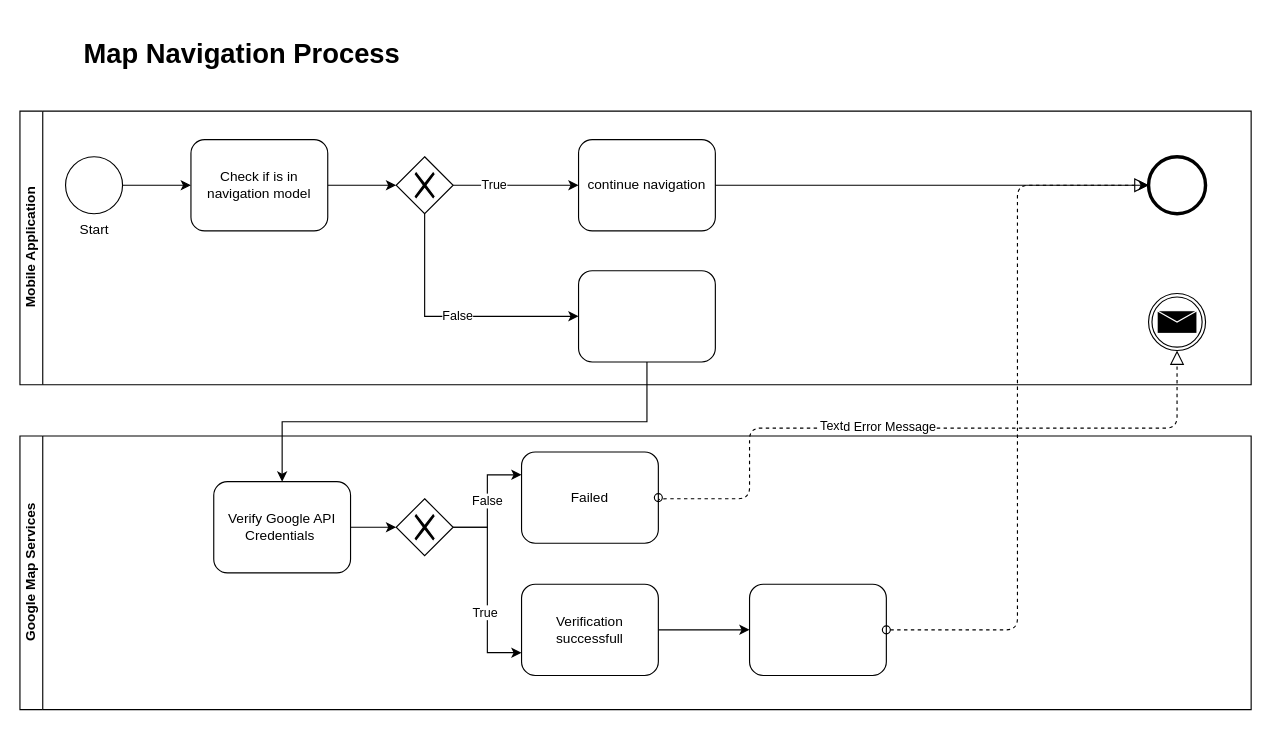
The diagram is 1277 pixels wide and 730 high, and some of its shapes have lost their labels. The centre of each missing label's shape, as x and y in pixels:
"Fetch geolocation information and destination information" goes at [646,316].
"Get navigation information" goes at [817,629].
"Google API error message" goes at [1176,321].
"Start Navigate" goes at [1176,185].
